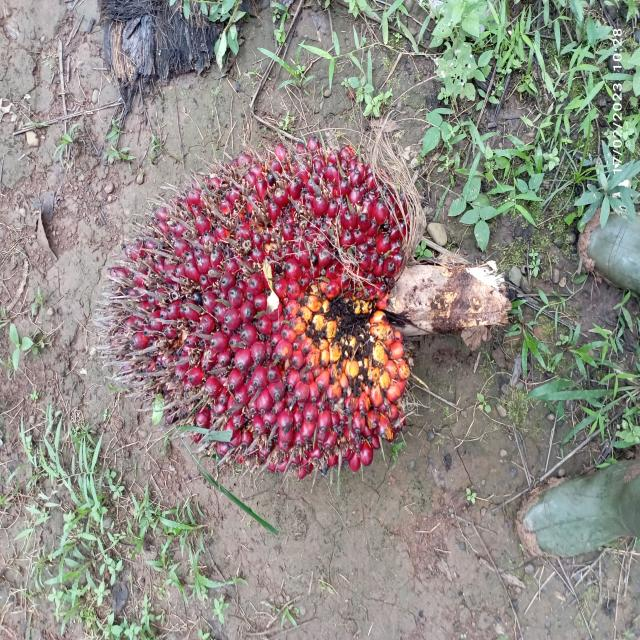fraksi 3: (92, 117, 433, 510)
